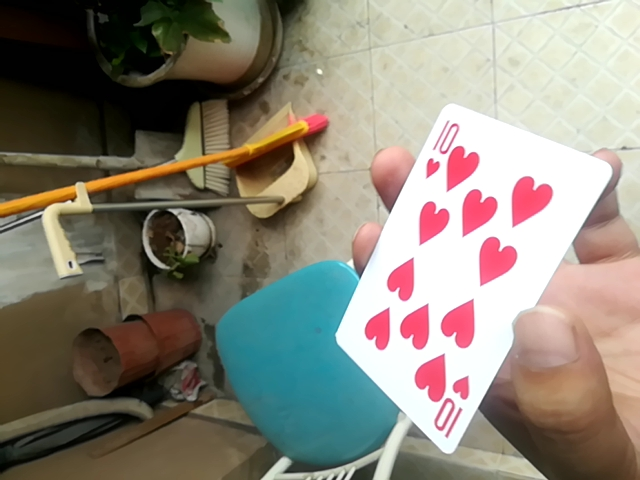hx 10: (323, 100, 607, 454)
